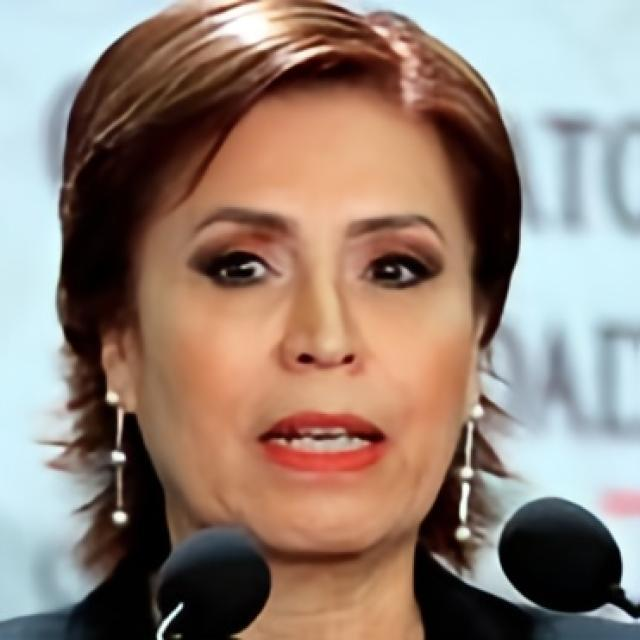fear: (134, 76, 474, 554)
